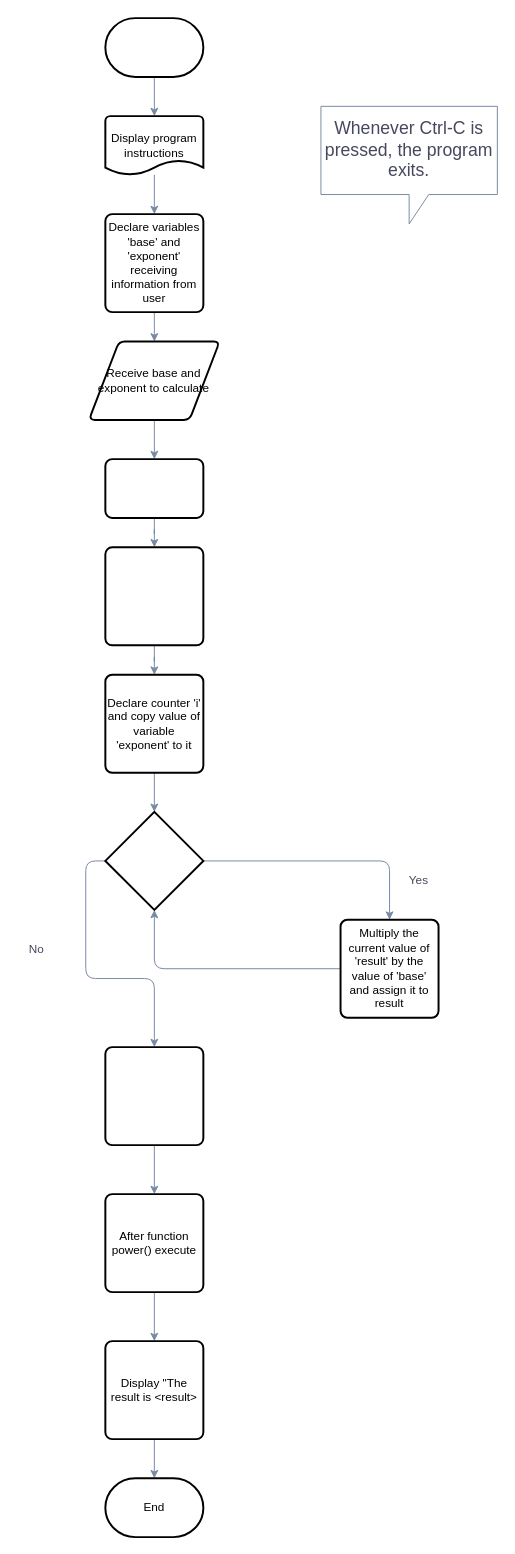
Some shapes in this 515 by 1554 pixel diagram are drawn without their labels. Here are the shapes that lost their labels. From the top down, the centre of each, then its label:
the point at 154,47: Start
the point at 154,488: In function power()
the point at 154,596: Declare variable 'result' and initialize it with 1
the point at 154,860: Is 'i' greater than 0?
the point at 154,1096: Return the value of 'result'
